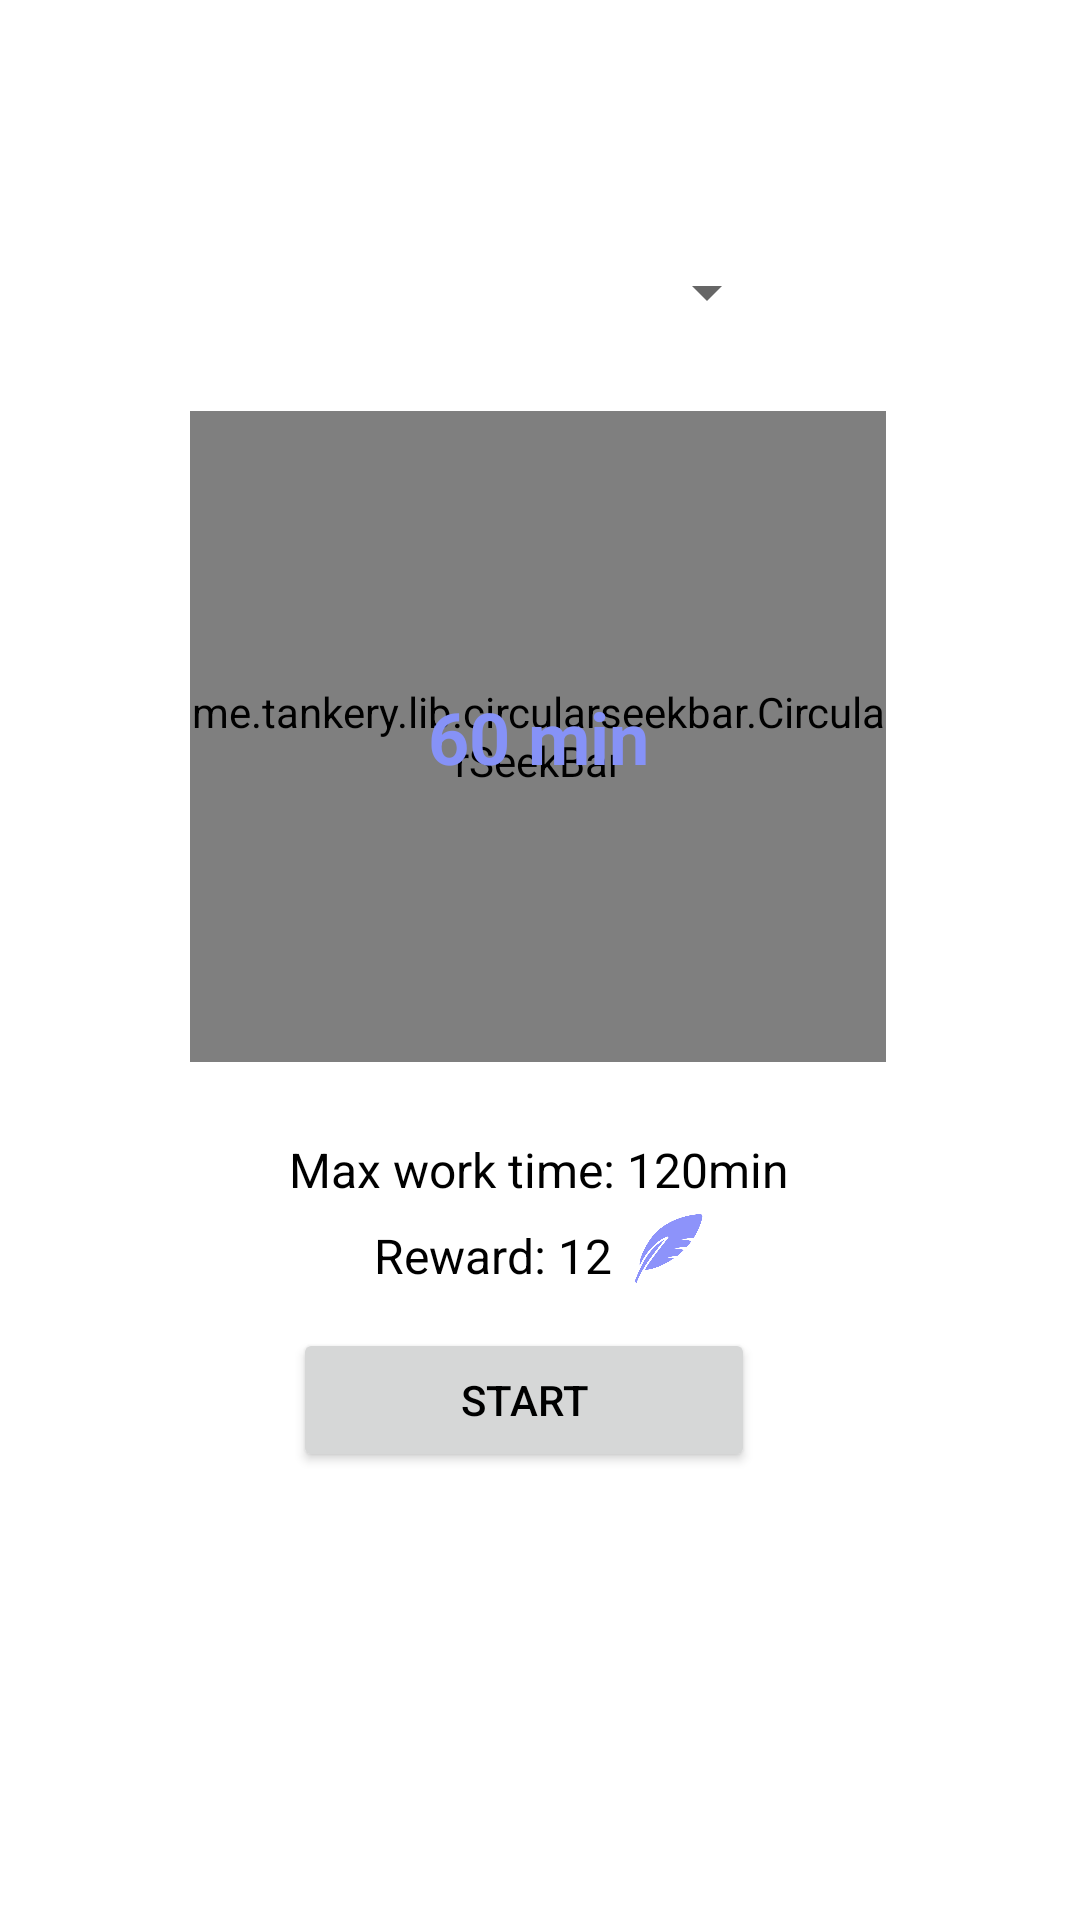

Icons on this 1080px×1920px Android screen, each with its box as box=[x1, y1, x2, y2]:
feather: box=[635, 1214, 702, 1283]
